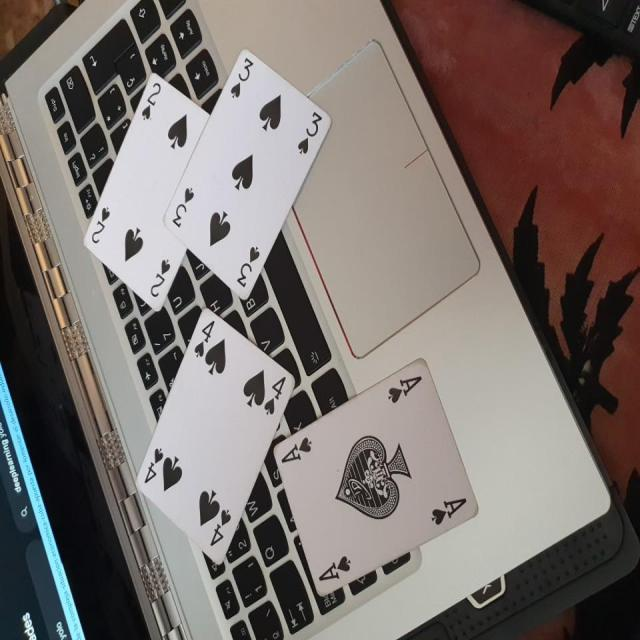2 Spades: (80, 70, 217, 322)
3 Spades: (165, 44, 334, 303)
4 Spades: (132, 305, 300, 580)
A Spades: (261, 353, 482, 595)
